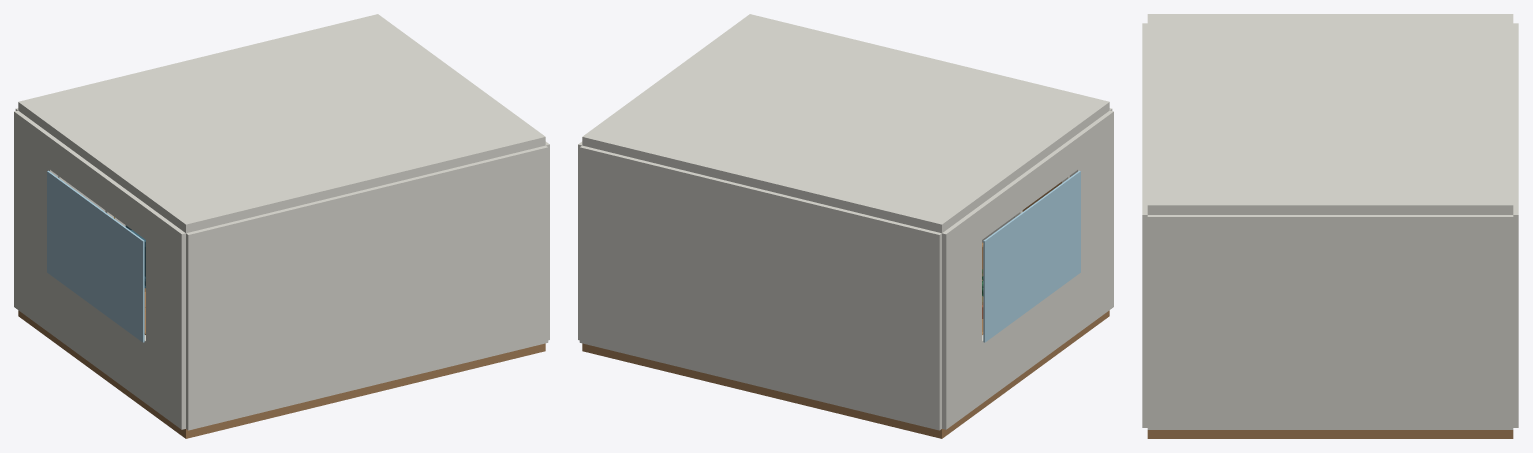
Rendered from pokoj.glb.
3 renders of one model, left to right at view 1: azimuth 30°, elevation 25°; view 2: azimuth 150°, elevation 25°; view 3: azimuth 270°, elevation 25°, orthographic. The views are drawn at different scales.
Parts seen in each view (by area): view 1: Ściana przednia, Sufit, Pod oknem, Niebo za oknem, Nad oknem, Podłoże, Bok okna, Bok okna.001; view 2: Ściana tylna, Sufit, Pod oknem, Niebo za oknem, Nad oknem, Podłoże, Bok okna.001, Bok okna; view 3: Ściana prawa, Sufit, Podłoże, Ściana tylna, Ściana przednia.
Boxes of the visible parts, bbox=[...] form: Ściana przednia: bbox=[186, 145, 548, 430]; Sufit: bbox=[18, 14, 545, 233]; Pod oknem: bbox=[14, 245, 185, 429]; Niebo za oknem: bbox=[47, 170, 144, 342]; Nad oknem: bbox=[14, 110, 185, 265]; Podłoże: bbox=[18, 310, 545, 438]; Bok okna: bbox=[146, 240, 185, 367]; Bok okna.001: bbox=[14, 143, 58, 268]; Ściana tylna: bbox=[579, 145, 941, 430]; Sufit: bbox=[582, 14, 1109, 233]; Pod oknem: bbox=[942, 245, 1113, 429]; Niebo za oknem: bbox=[983, 170, 1080, 342]; Nad oknem: bbox=[942, 110, 1113, 265]; Podłoże: bbox=[582, 310, 1109, 438]; Bok okna.001: bbox=[942, 240, 981, 367]; Bok okna: bbox=[1069, 143, 1113, 268]; Ściana prawa: bbox=[1147, 215, 1513, 429]; Sufit: bbox=[1147, 14, 1513, 214]; Podłoże: bbox=[1147, 430, 1513, 438]; Ściana tylna: bbox=[1513, 23, 1518, 427]; Ściana przednia: bbox=[1142, 23, 1147, 427].
Bounding box in the file's own units: 5.36 × 2.96 × 4.32.
